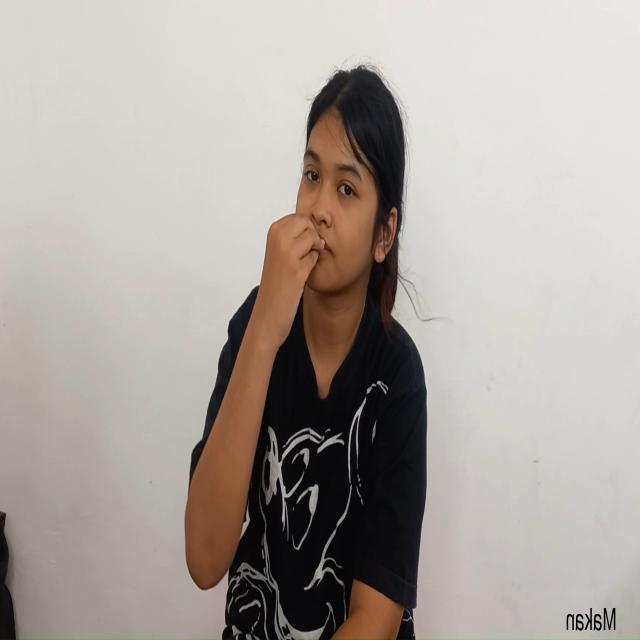Makan -BISINDO-: (238, 68, 398, 354)
